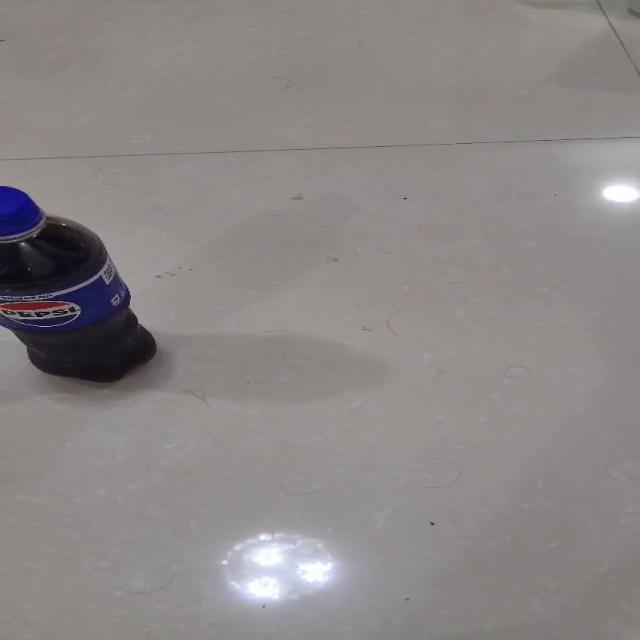plastic: (0, 184, 157, 383)
